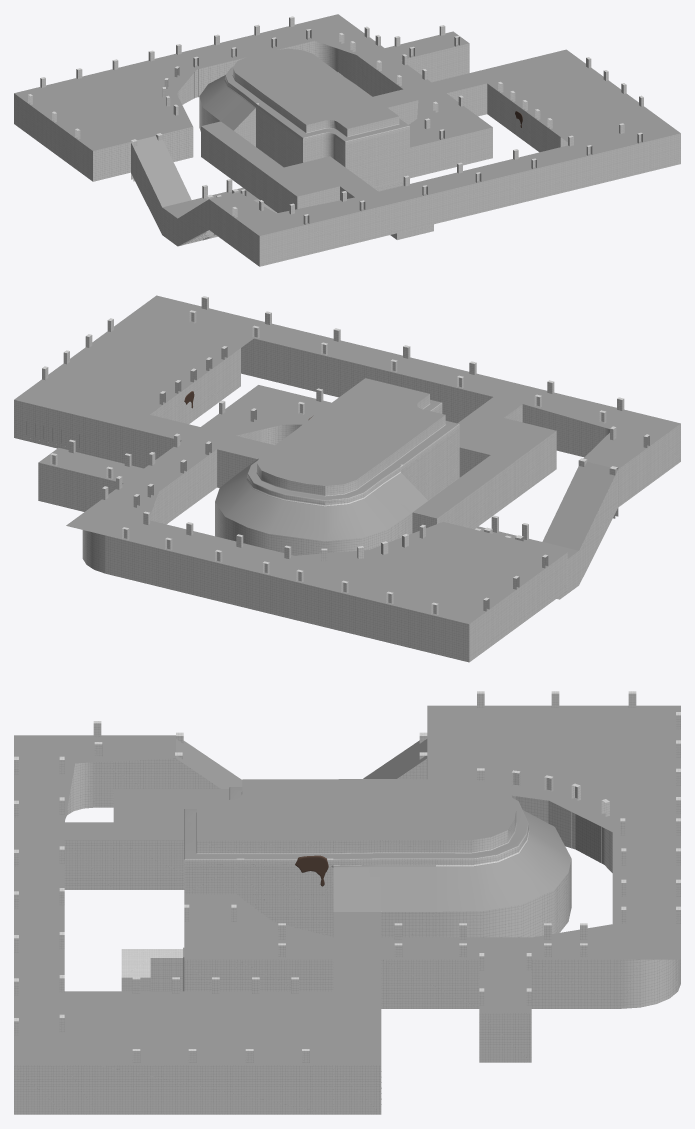
File: MAPA.fbx
3 views of the same model, one above another, from view 1: azimuth 30°, elevation 25°; view 2: azimuth 150°, elevation 25°; view 3: azimuth 270°, elevation 25° (orthographic). The views are drawn at different scales.
Parts seen in each view (by area): view 1: Techo1, Mapa; view 2: Techo1, Mapa; view 3: Techo1, Mapa, Entrada.
Boxes of the visible parts, x1=… form: Techo1: x1=14, y1=14, x2=680, y2=235; Mapa: x1=14, y1=40, x2=680, y2=266; Techo1: x1=14, y1=295, x2=680, y2=623; Mapa: x1=14, y1=338, x2=680, y2=662; Techo1: x1=14, y1=705, x2=680, y2=1065; Mapa: x1=14, y1=758, x2=680, y2=1114; Entrada: x1=121, y1=949, x2=182, y2=977.
Bounding box in the file's own units: 5779 × 1209 × 4530.
